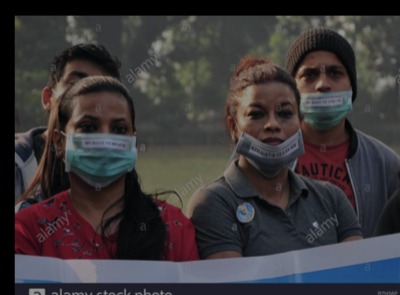mask_weared_incorrect: (237, 96, 299, 174), (293, 59, 354, 129)
with_mask: (64, 111, 134, 186)
